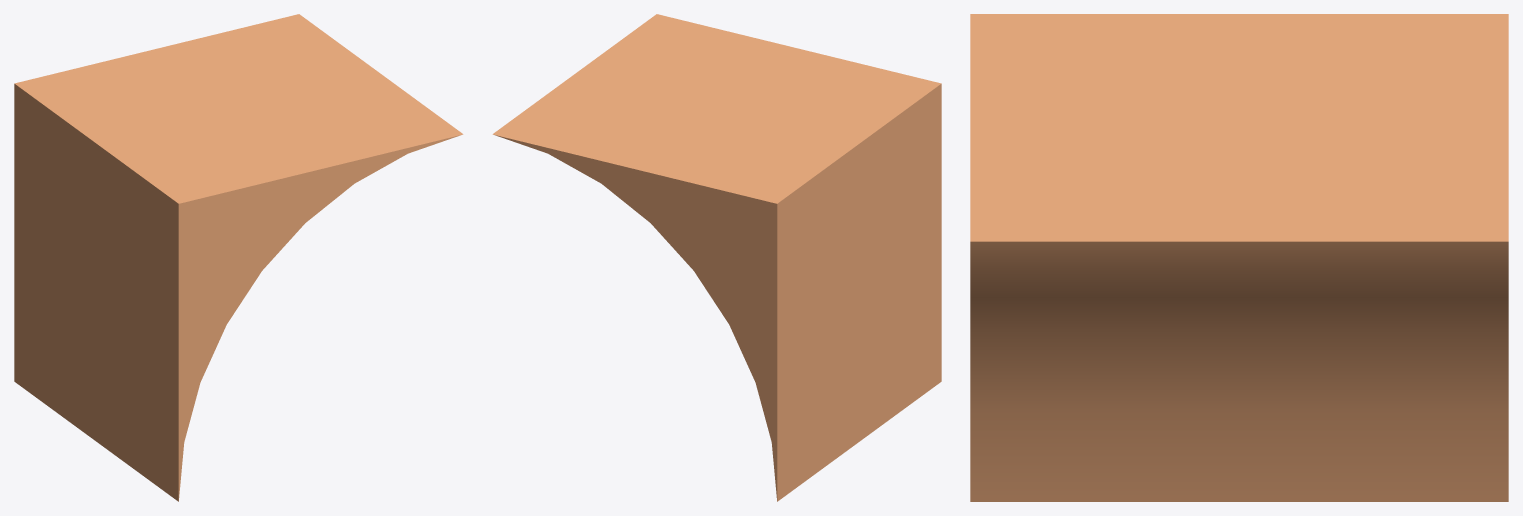
File: Ground_005.fbx
3 renders of one model, left to right at view 1: azimuth 30°, elevation 25°; view 2: azimuth 150°, elevation 25°; view 3: azimuth 270°, elevation 25°, orthographic. The views are drawn at different scales.
Visible parts, largest first — view 1: Ground.005; view 2: Ground.005; view 3: Ground.005.
Boxes of the visible parts, bbox=[...] form: Ground.005: bbox=[14, 14, 463, 501]; Ground.005: bbox=[492, 14, 941, 501]; Ground.005: bbox=[970, 14, 1508, 501].
Size of the model in its own units: 100 by 100 by 100.
